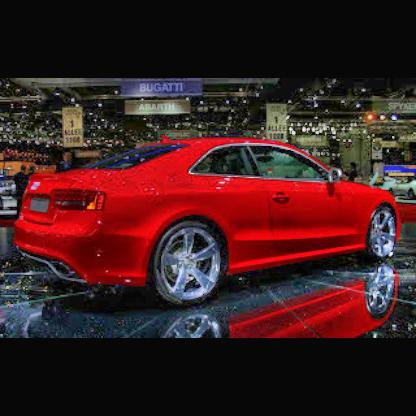Audi S5 Coupe 2012: (14, 134, 404, 313)
